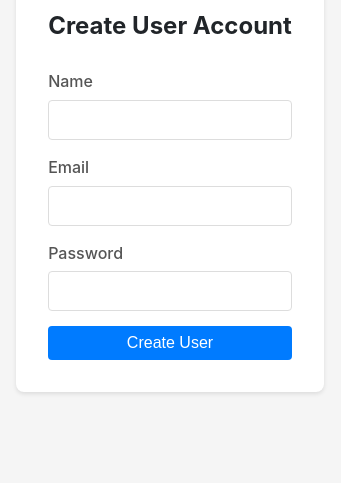
Test: UserForm › should show error message on API failure
Type "John Doe" into the field labelled "Name".
click(170, 120); type("John Doe")  # box [48,100,292,140]
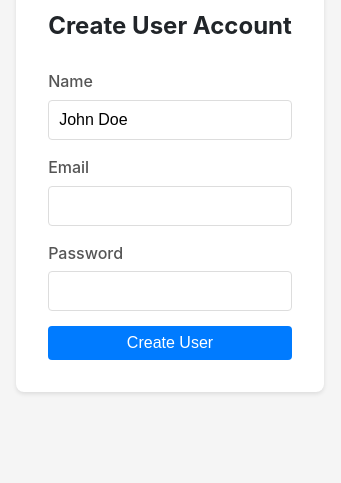
Type "john@example.com" into the field labelled "Email".
click(170, 206); type("john@example.com")  # box [48,186,292,226]
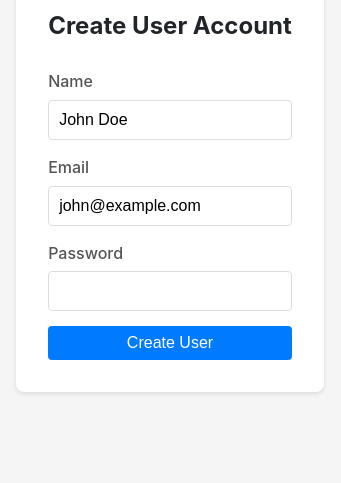
Type "password123" into the password field labelled "Password".
click(170, 291); type("password123")  # box [48,271,292,311]
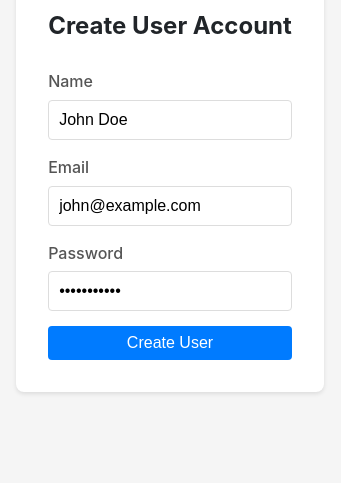
Click the button "Create User".
click(170, 343)  # box [48,326,292,360]
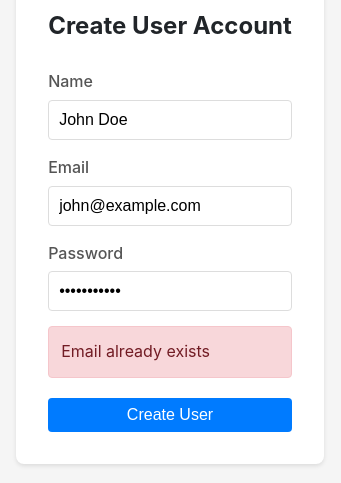
Now the text "Email already exists" is shown, box [48,326,292,378]
